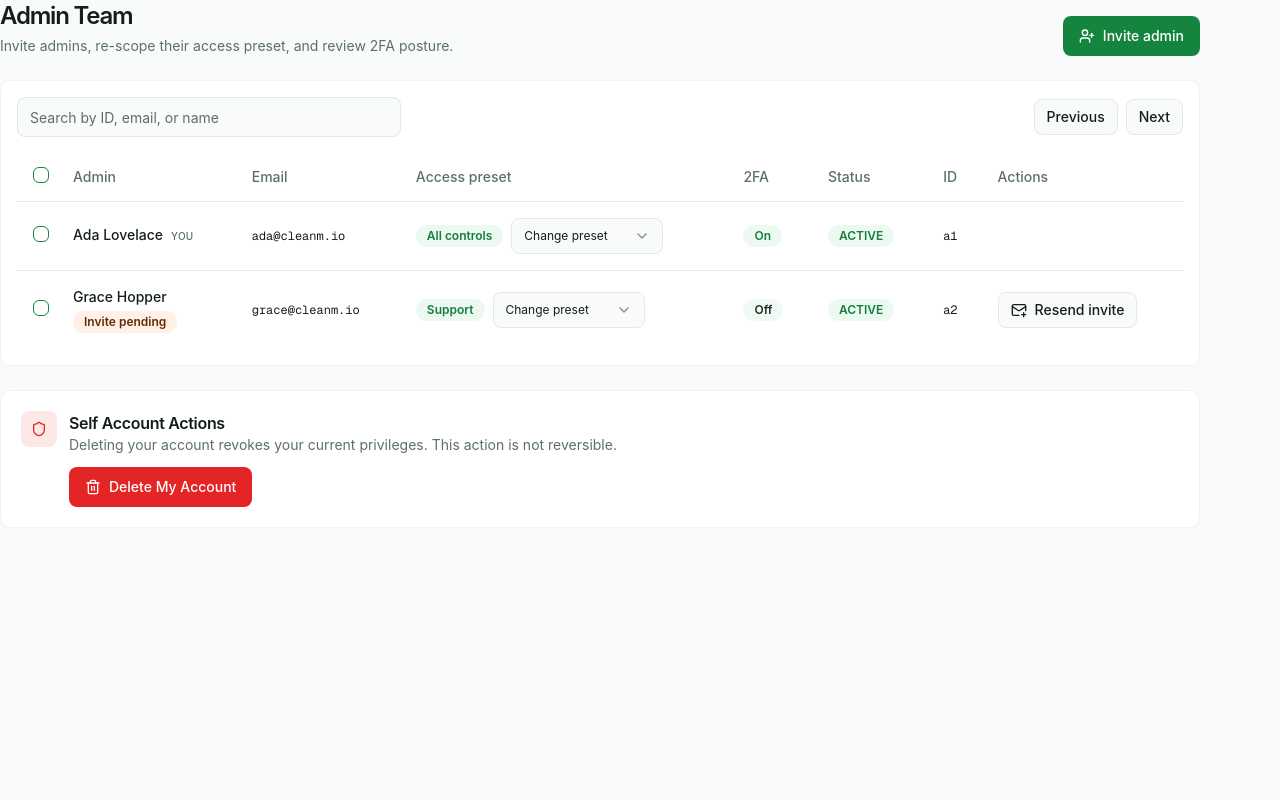
Test: admin team page › sends nothing when a per-row preset change is refused
Expected: the text "Grace Hopper" is shown, [73,288,167,304]
Press Enter in the dropdown named "Access preset for Grace Hopper", box [492,292,644,328]
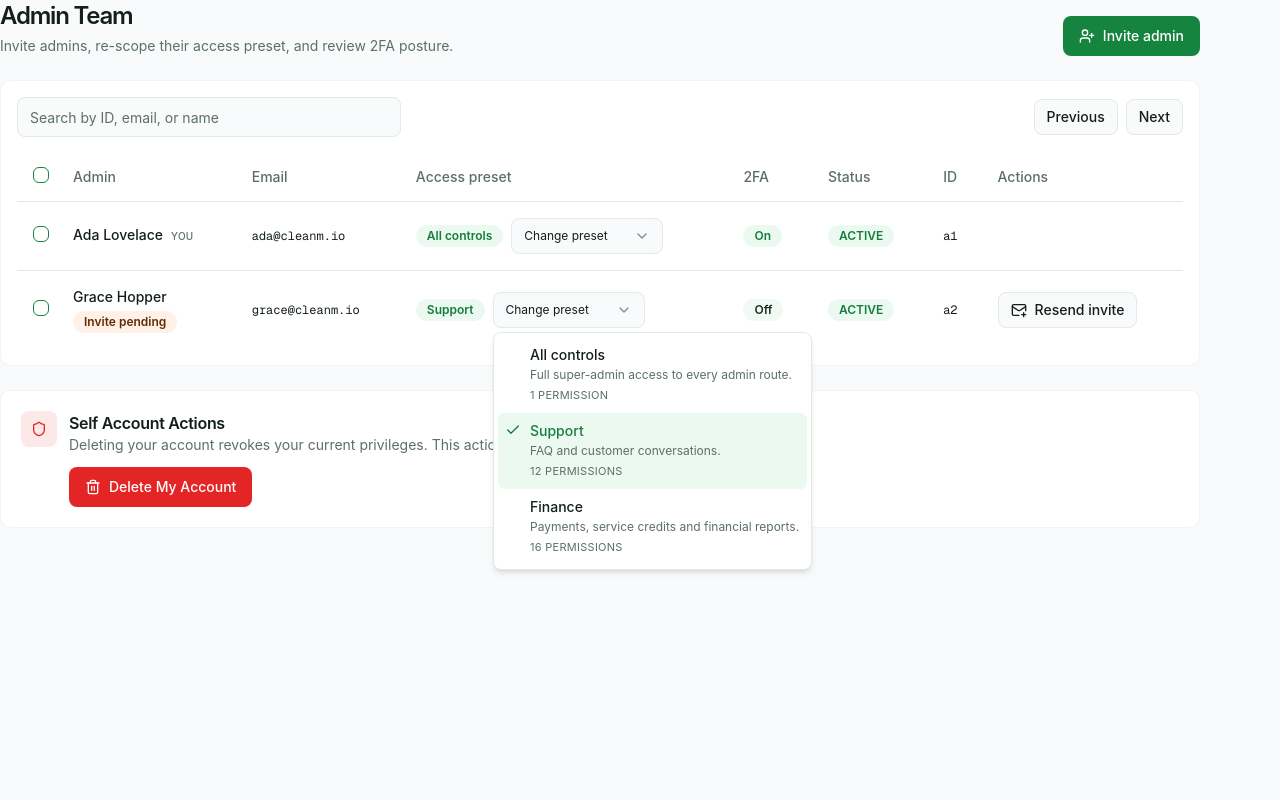
Click the option "Finance" at {"x": 653, "y": 527}, box [498,489,807,565]
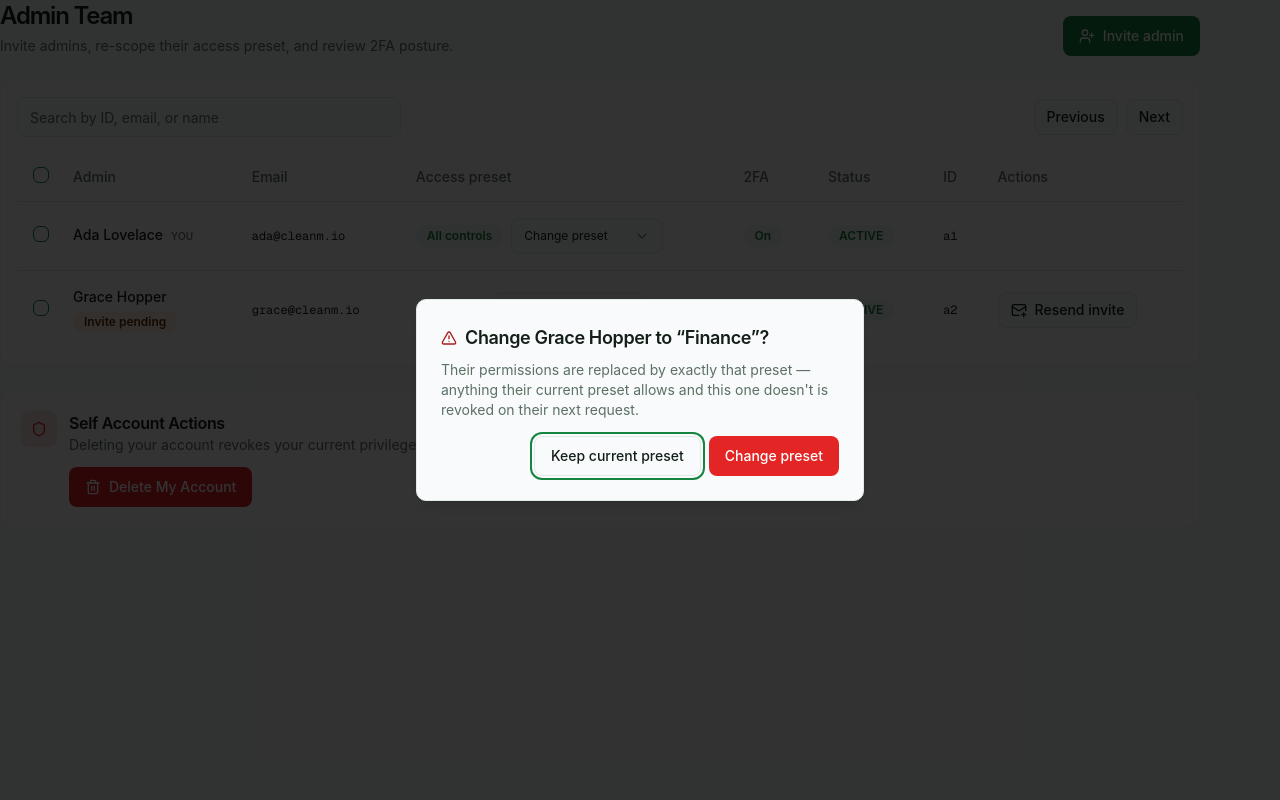
Click the button "Keep current preset" at {"x": 617, "y": 456}, box [534,436,701,476]
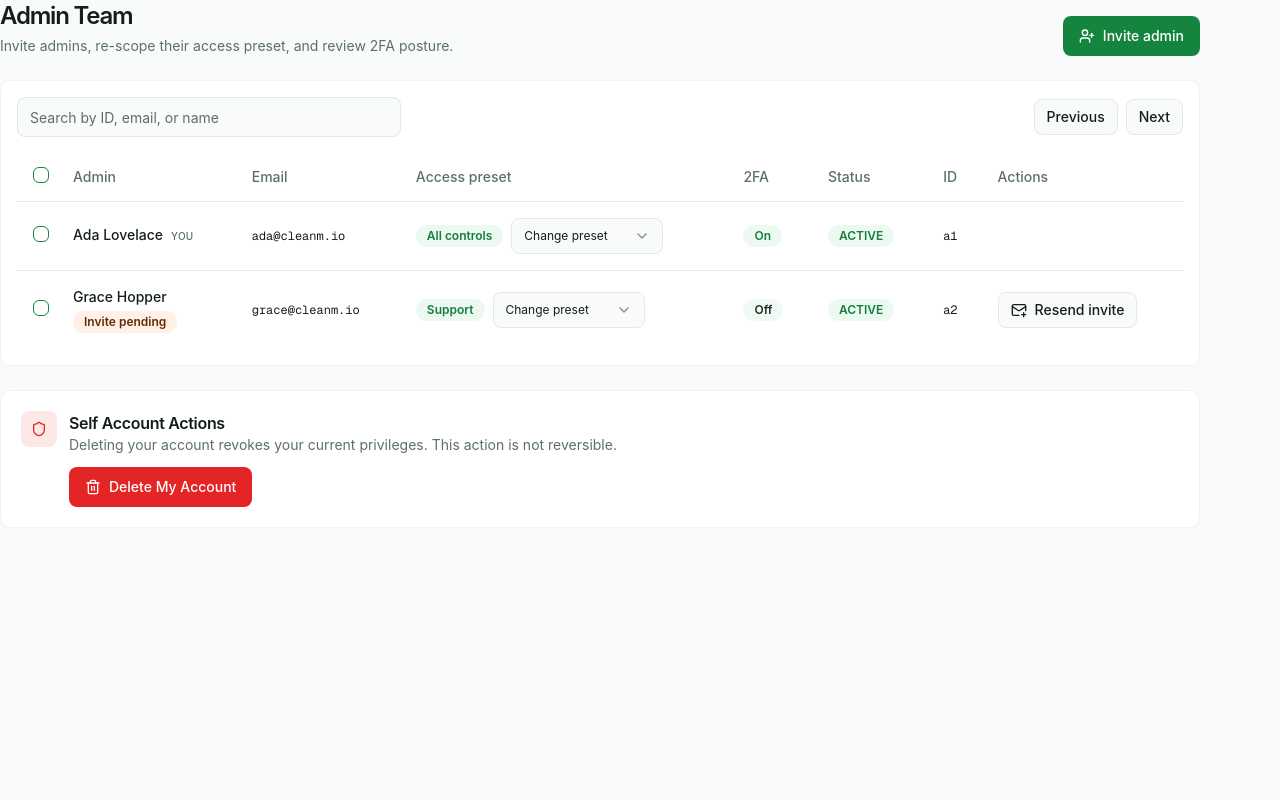
Now the dialog with test id "confirm-dialog" is gone
